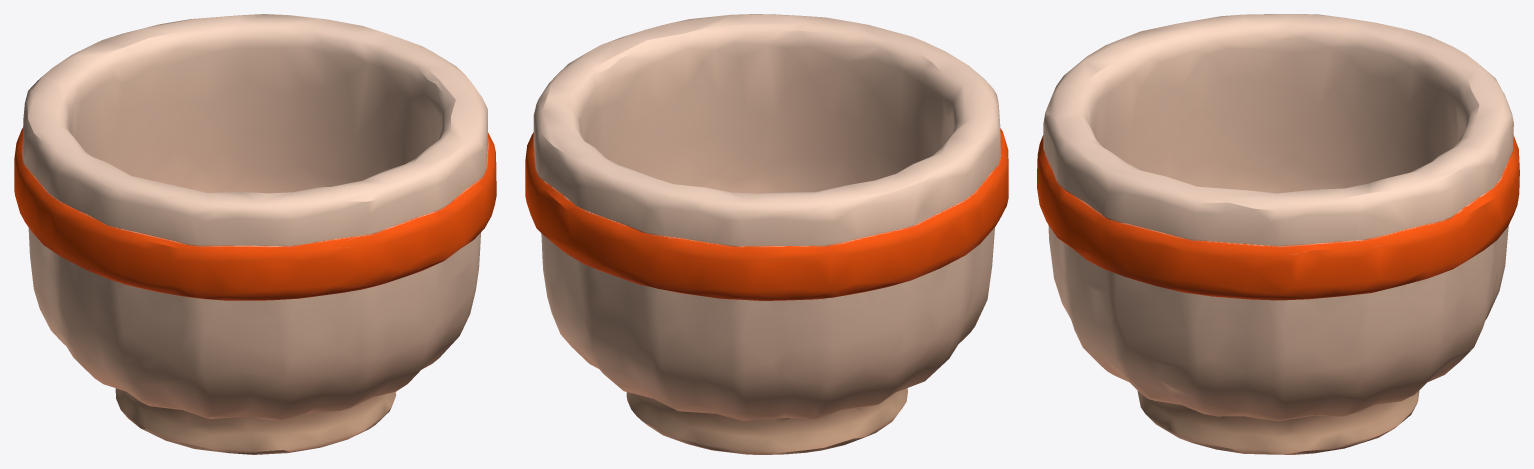
The model's file is GoalCup.glb.
3 views of the same model, side by side, from view 1: azimuth 30°, elevation 25°; view 2: azimuth 150°, elevation 25°; view 3: azimuth 270°, elevation 25° (orthographic).
Visible parts, largest first — view 1: geometry_0; view 2: geometry_0; view 3: geometry_0.
Part boxes in pixels (x1,y1,x2,y2): geometry_0: (14,14,496,454); geometry_0: (525,14,1008,454); geometry_0: (1037,14,1519,454).
Bounding box in the file's own units: 0.14 × 0.0932 × 0.1399.
1 material, 1 textured.
